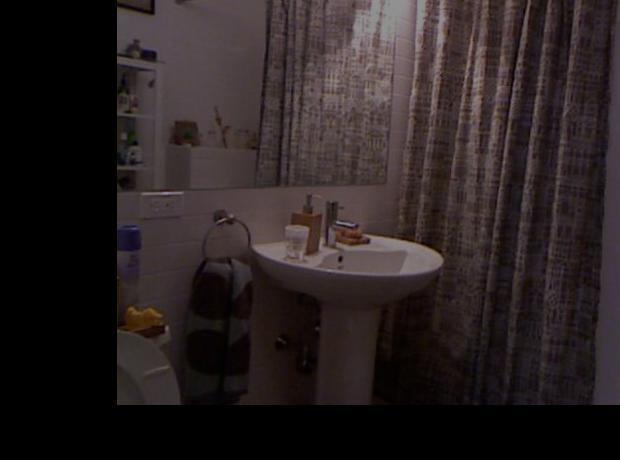Ducha: (413, 0, 620, 400)
Lavamanos: (248, 202, 445, 404)
